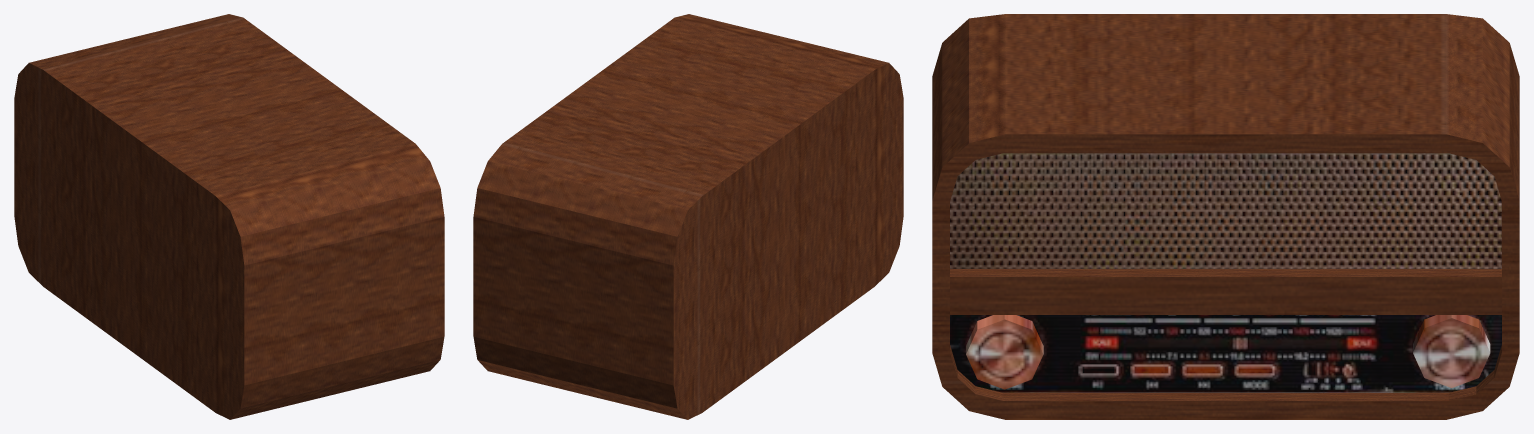
The model's file is Radio.fbx.
3 renders of one model, left to right at view 1: azimuth 30°, elevation 25°; view 2: azimuth 150°, elevation 25°; view 3: azimuth 270°, elevation 25°, orthographic. The views are drawn at different scales.
Parts seen in each view (by area): view 1: Cube; view 2: Cube; view 3: Cube, Cylinder.001, Cylinder.
Boxes of the visible parts, box(x1,y1,x2,y2) form: Cube: box(14, 14, 444, 419); Cube: box(473, 14, 903, 419); Cube: box(932, 14, 1519, 419); Cylinder.001: box(966, 315, 1043, 389); Cylinder: box(1413, 315, 1490, 387).
Size of the model in its own units: 188 by 200 by 372.
